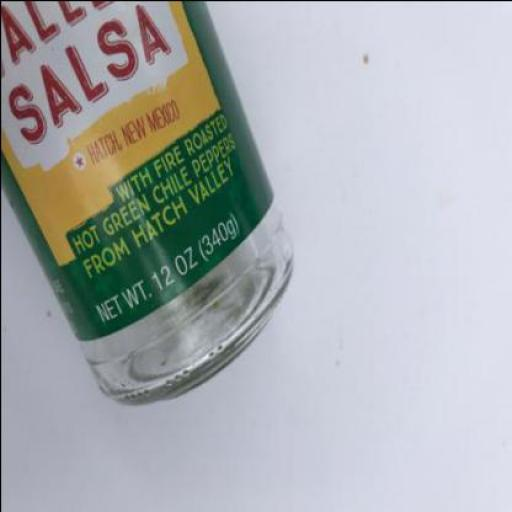glass: (1, 1, 292, 405)
